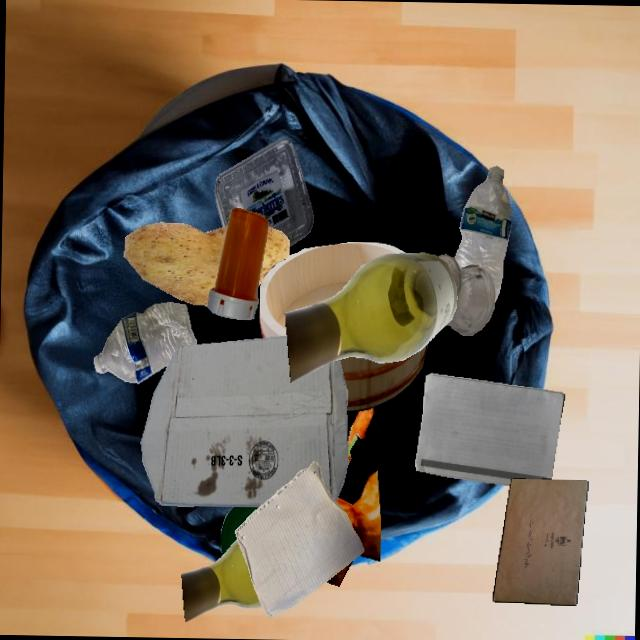biowaste: (124, 222, 227, 305), (336, 471, 381, 560), (347, 407, 374, 466)
cardboard: (141, 335, 347, 506), (445, 322, 449, 325)
combustible waste: (259, 242, 406, 338), (339, 342, 428, 411)
glass: (285, 252, 457, 382), (181, 539, 262, 622), (437, 254, 495, 335), (344, 566, 345, 567)
paper: (234, 461, 364, 617), (415, 372, 565, 485), (492, 478, 588, 606)
plastic: (214, 138, 313, 246), (93, 302, 196, 383), (454, 166, 511, 302), (207, 207, 269, 319), (220, 506, 260, 555)
